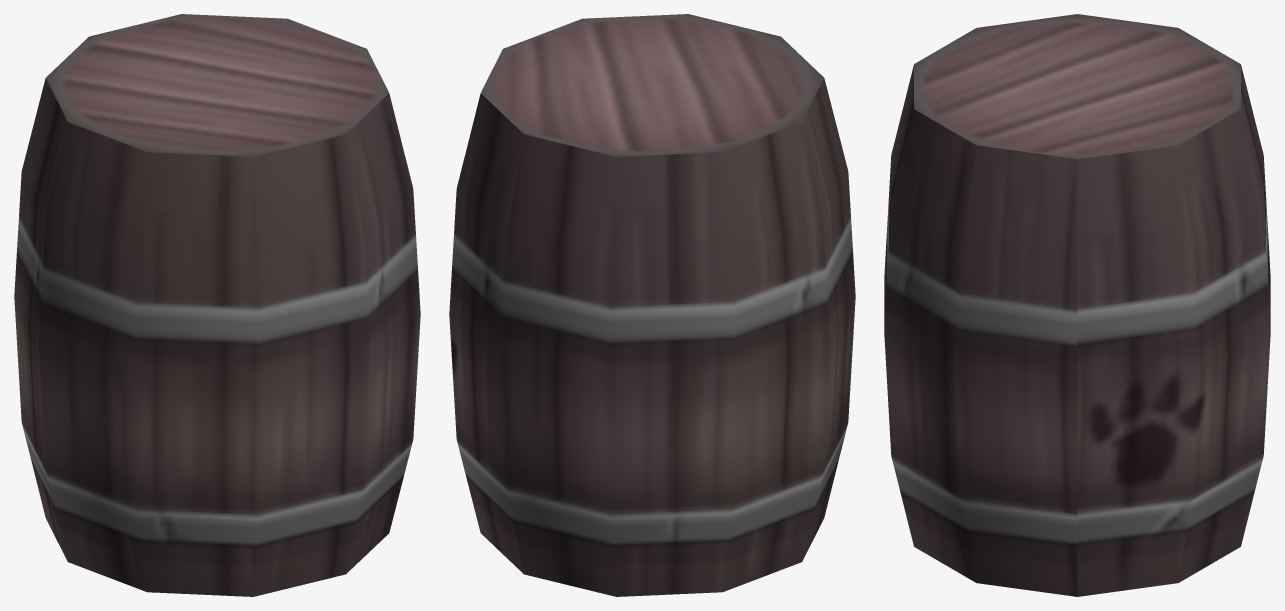
File: Props_Barrel.fbx
The picture shows the model from 3 angles, left to right: view 1: azimuth 30°, elevation 25°; view 2: azimuth 150°, elevation 25°; view 3: azimuth 270°, elevation 25°; orthographic projection.
Parts seen in each view (by area): view 1: pCylinder13; view 2: pCylinder13; view 3: pCylinder13.
Boxes of the visible parts, x1=… form: pCylinder13: x1=14, y1=14, x2=420, y2=596; pCylinder13: x1=449, y1=14, x2=855, y2=596; pCylinder13: x1=884, y1=14, x2=1270, y2=596.
Bounding box in the file's own units: 2.08 × 2.47 × 1.97.
